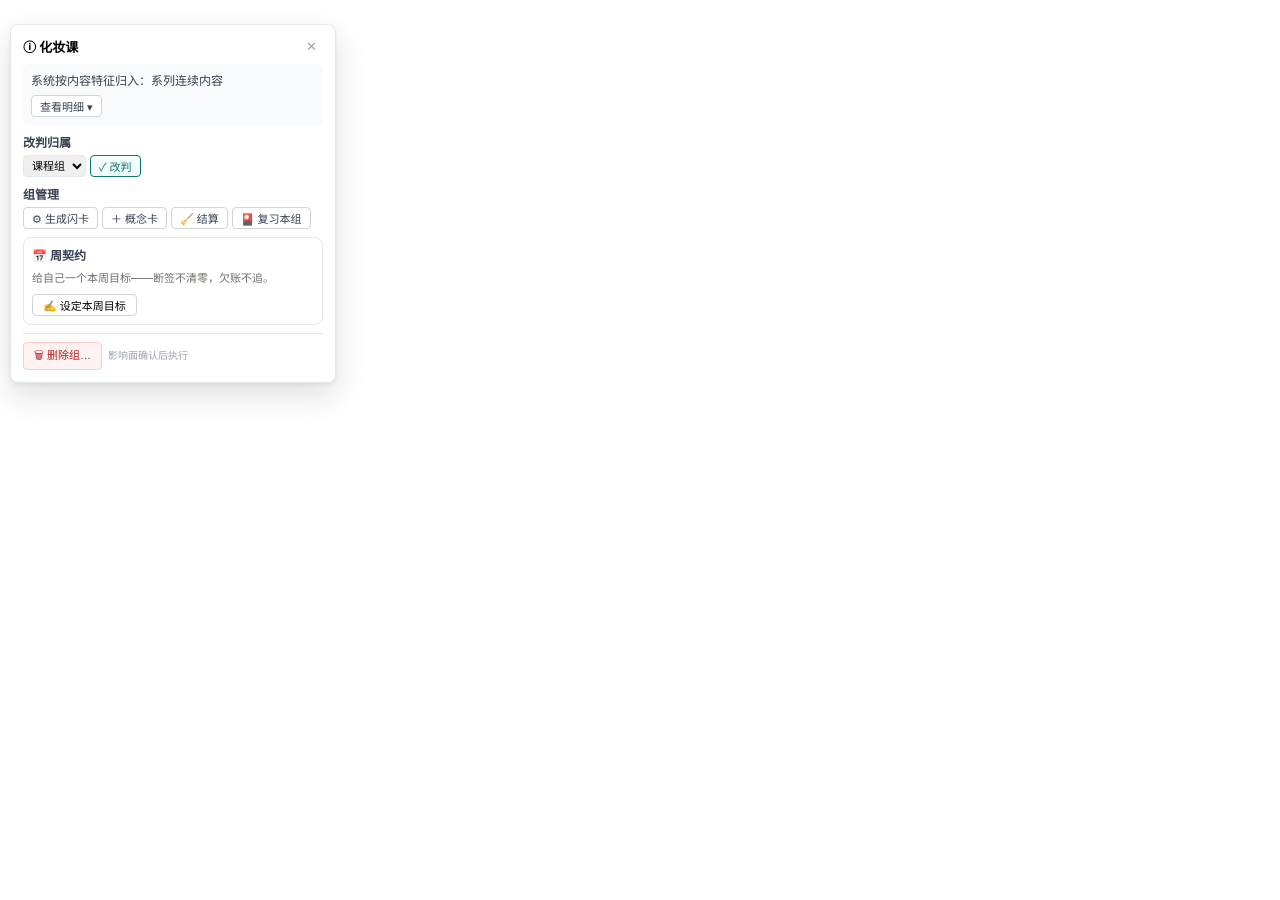
Test case: RouteInfoPopover ⓘ 弹层 › ⑤ 删除组：无级联项（纯笔记组）→ 无需勾选即可执行
expect the text "系统按内容特征归入：系列连续内容" is shown: met, box left=31, top=74, right=223, bottom=88
Click the button with test id "group-delete-open" at (62, 356), box left=23, top=342, right=102, bottom=370
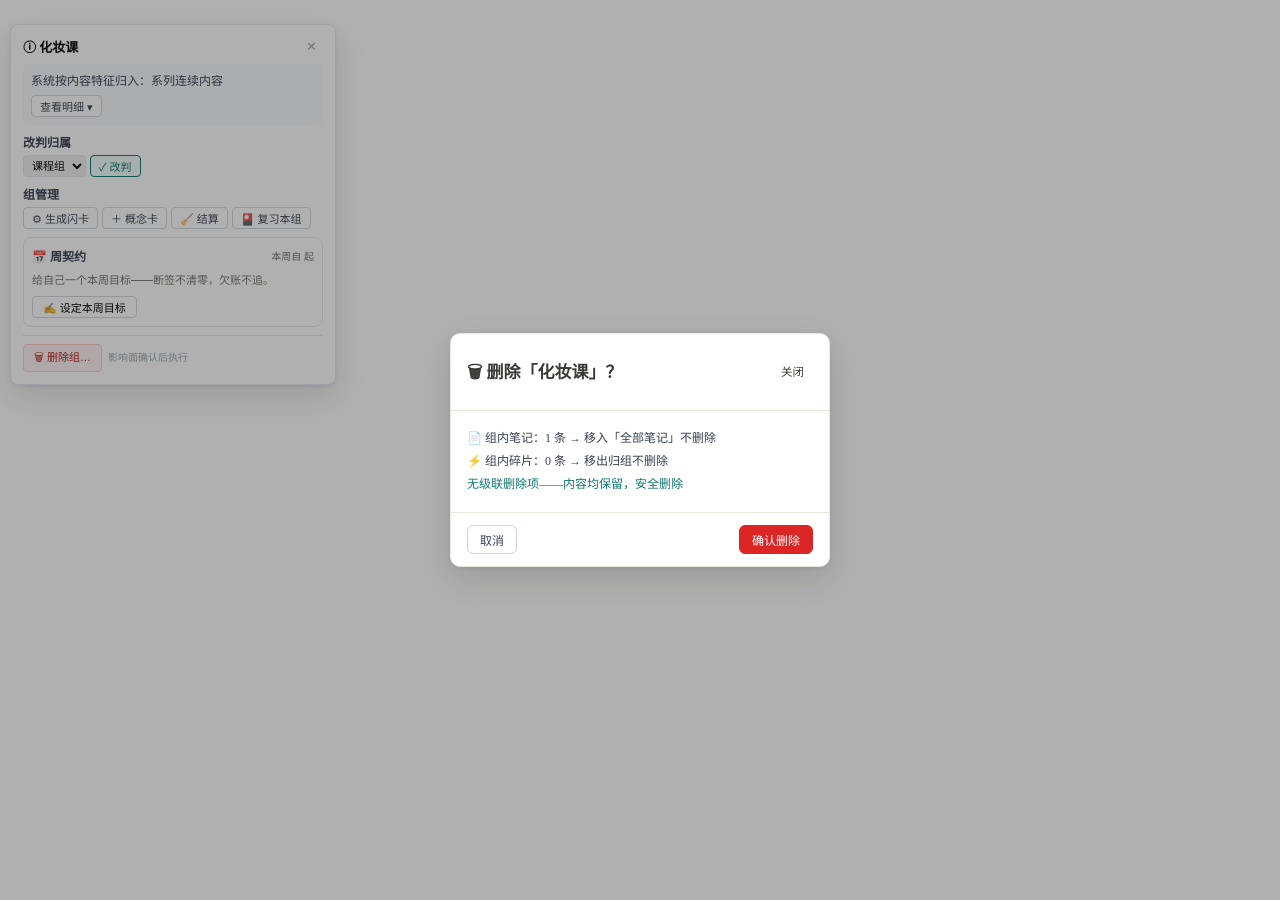
expect the element with test id "group-delete-impact" is shown: met, box left=467, top=431, right=716, bottom=491
expect the button with test id "group-delete-submit" is enabled: met, box left=739, top=525, right=813, bottom=554
